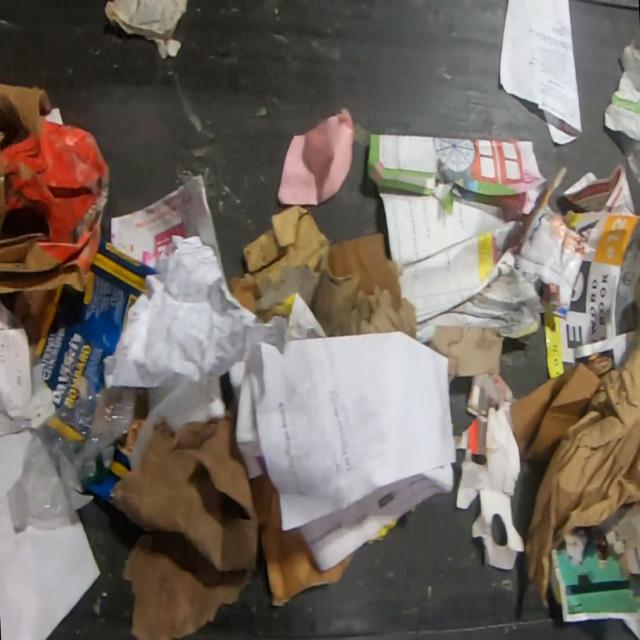cardboard: (524, 346, 640, 610), (11, 234, 162, 412), (0, 84, 112, 295), (543, 208, 640, 380), (252, 473, 355, 609), (454, 373, 525, 570), (510, 352, 617, 462), (238, 204, 330, 284), (326, 232, 403, 310), (102, 0, 189, 59), (429, 324, 506, 384), (86, 450, 133, 499), (228, 277, 263, 314), (118, 419, 148, 457)
rigid_plastic: (8, 386, 138, 530)
